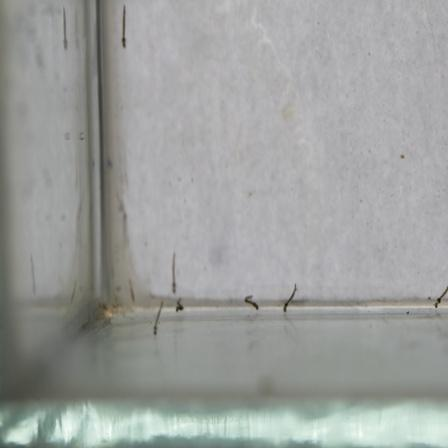Jentik-Nyamuk: (115, 1, 131, 53), (279, 282, 302, 315), (151, 296, 167, 338), (168, 248, 180, 296), (432, 282, 448, 309), (242, 293, 263, 313), (172, 297, 187, 314)
